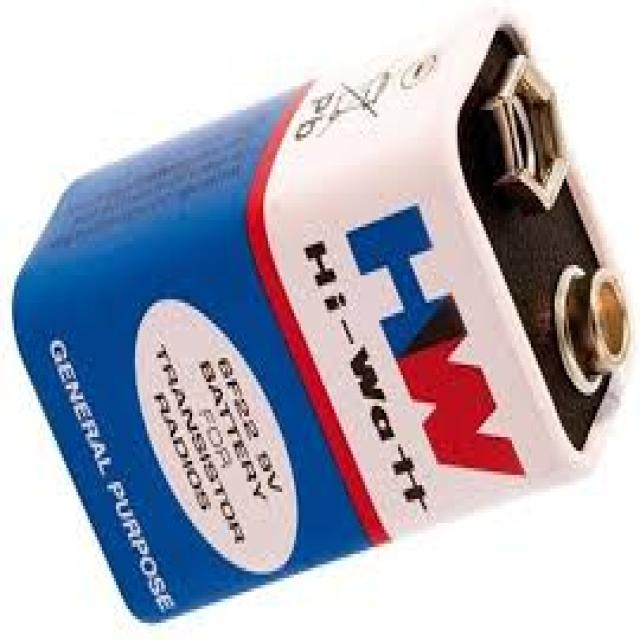Battery: (14, 10, 631, 619)
